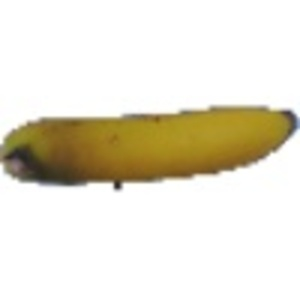banana: (3, 95, 295, 187)
